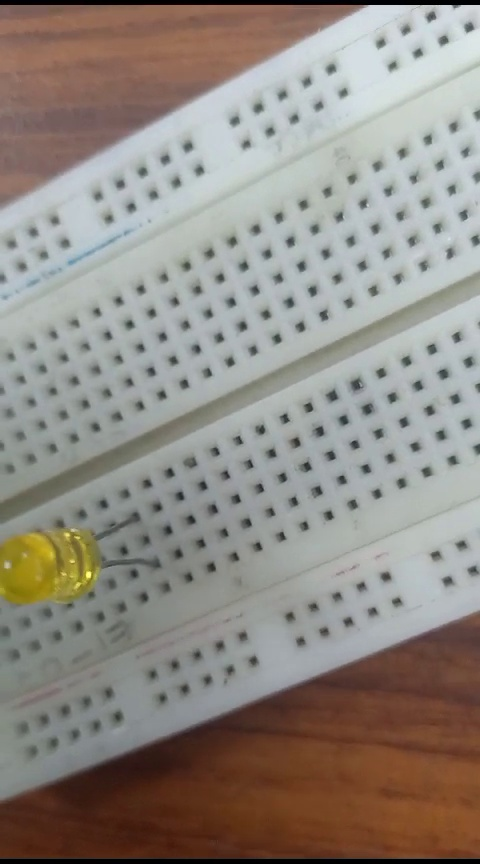LED: (3, 521, 159, 596)
